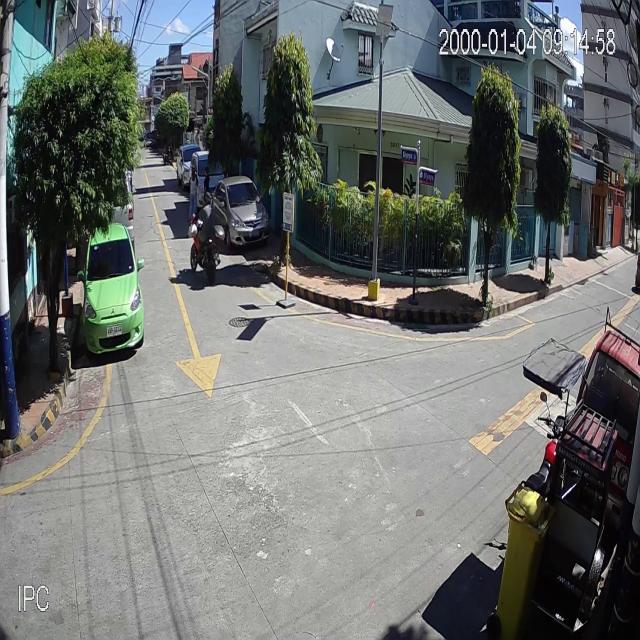standing: (201, 165, 211, 222)
walking: (188, 167, 200, 225)
